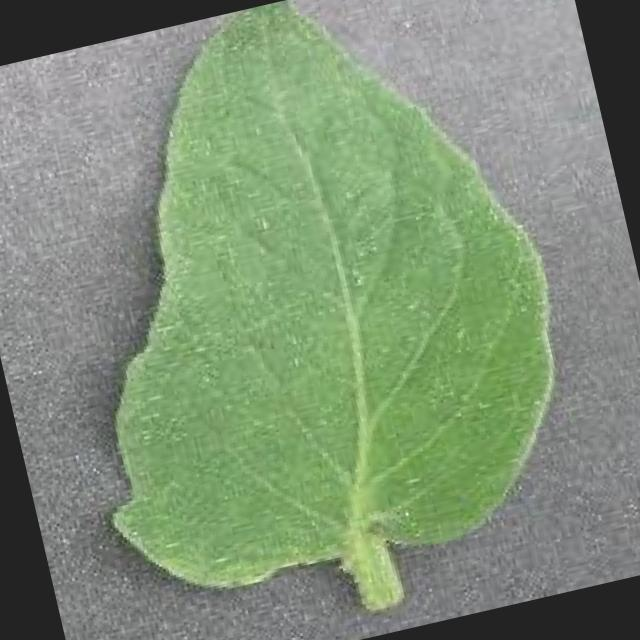healthy: (109, 1, 558, 616)
